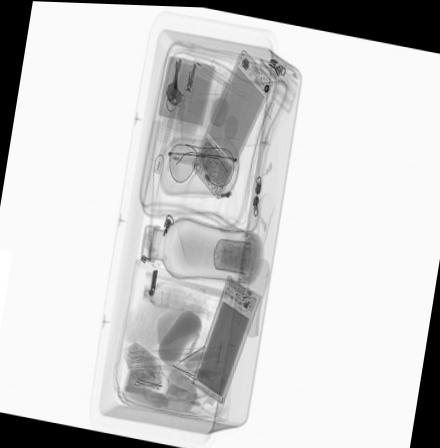Powerbank: (191, 271, 262, 402)
